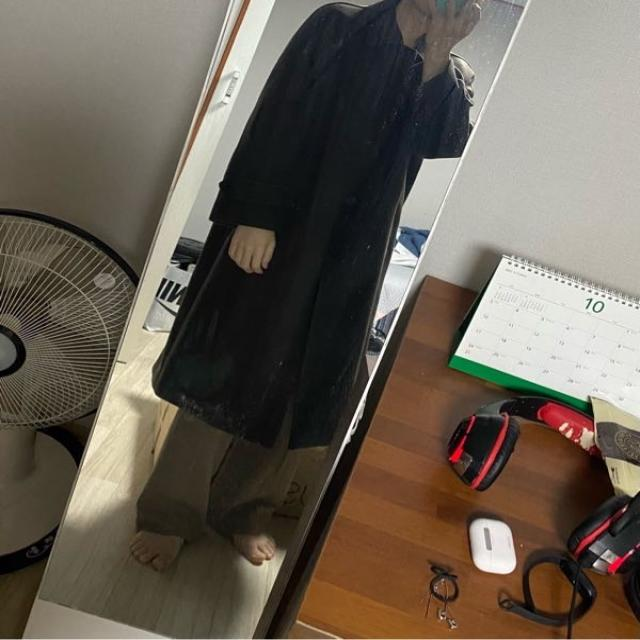coat: (152, 0, 474, 450)
slacks: (136, 398, 296, 537)
